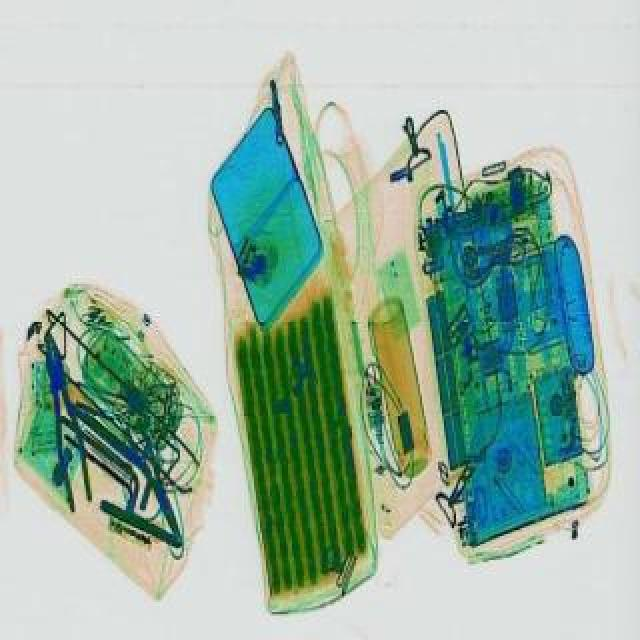wrench: (34, 324, 100, 508), (122, 416, 194, 542)
